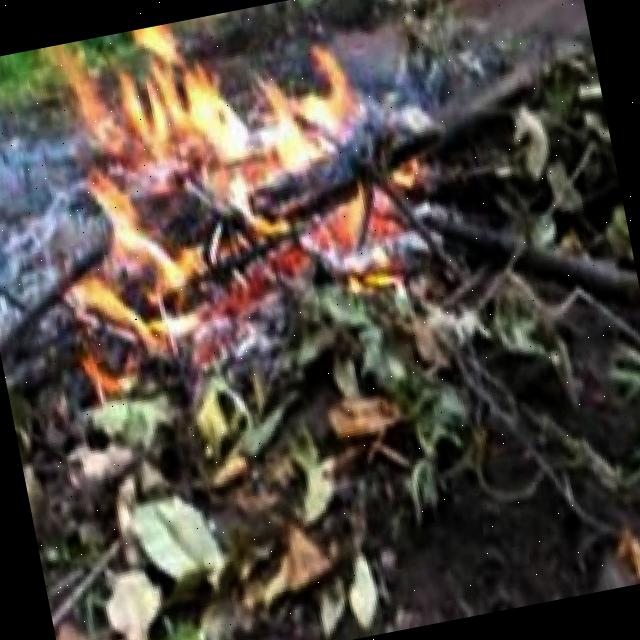fire: (32, 0, 427, 357)
